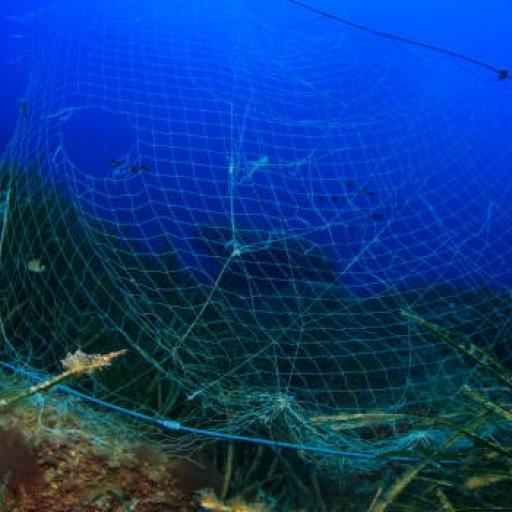net: (2, 1, 512, 466)
